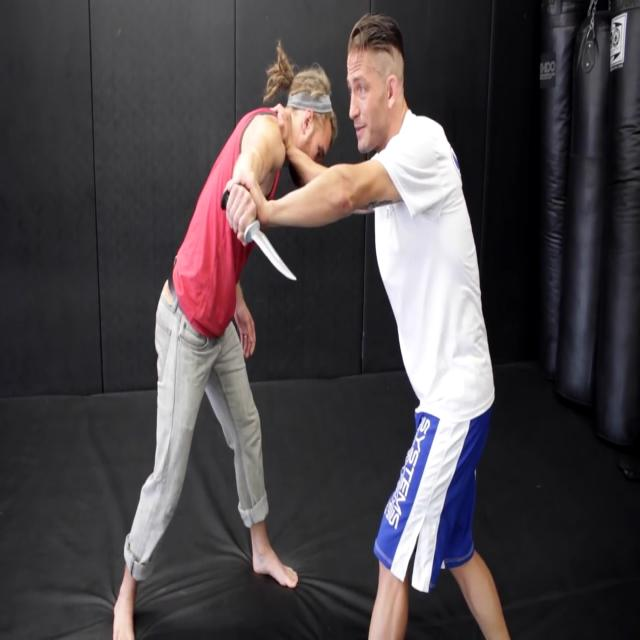knife: (250, 218, 300, 291)
